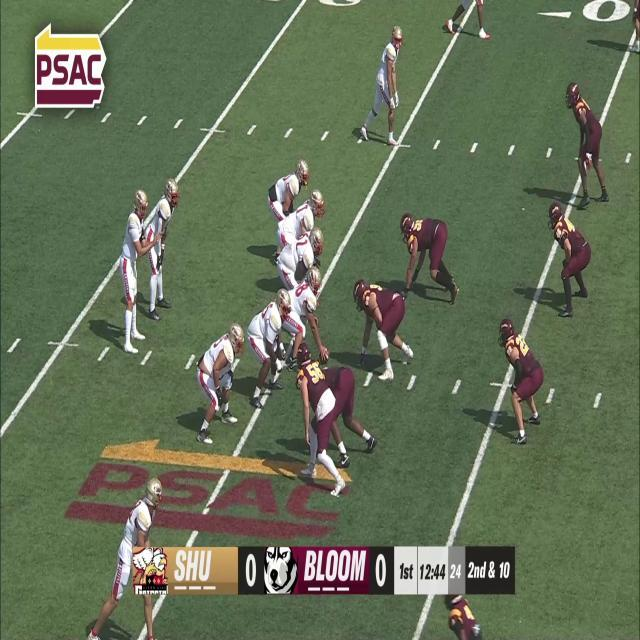football: (317, 348, 329, 364)
